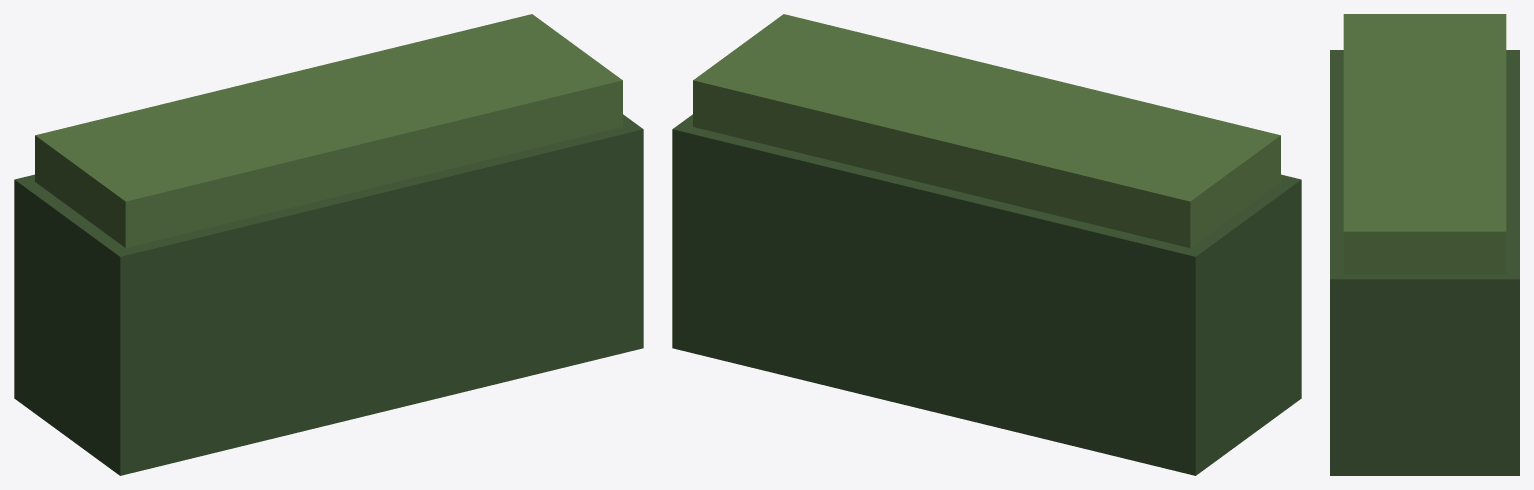
File: prop_hedge.glb
The picture shows the model from 3 angles, left to right: view 1: azimuth 30°, elevation 25°; view 2: azimuth 150°, elevation 25°; view 3: azimuth 270°, elevation 25°; orthographic projection. The views are drawn at different scales.
Parts seen in each view (by area): view 1: prop_hedge; view 2: prop_hedge; view 3: prop_hedge.
Part boxes in pixels (box(x1,y1,x2,y2)): prop_hedge: box(14, 14, 643, 475); prop_hedge: box(672, 14, 1301, 475); prop_hedge: box(1330, 14, 1519, 475).
Size of the model in its own units: 2 by 0.9701 by 0.7.
1 material, 1 textured.
